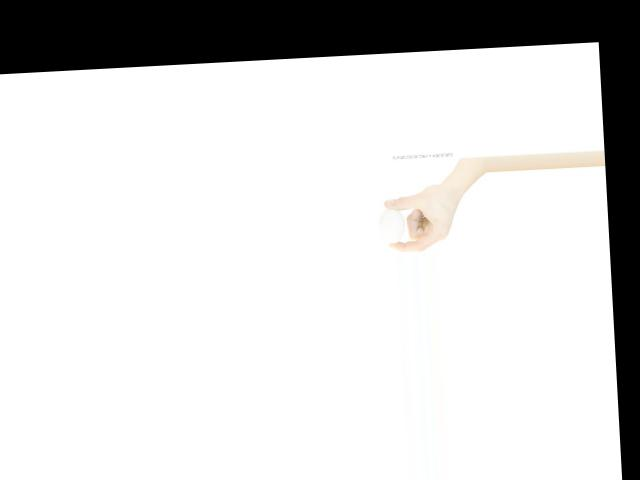egg: (379, 207, 406, 243)
